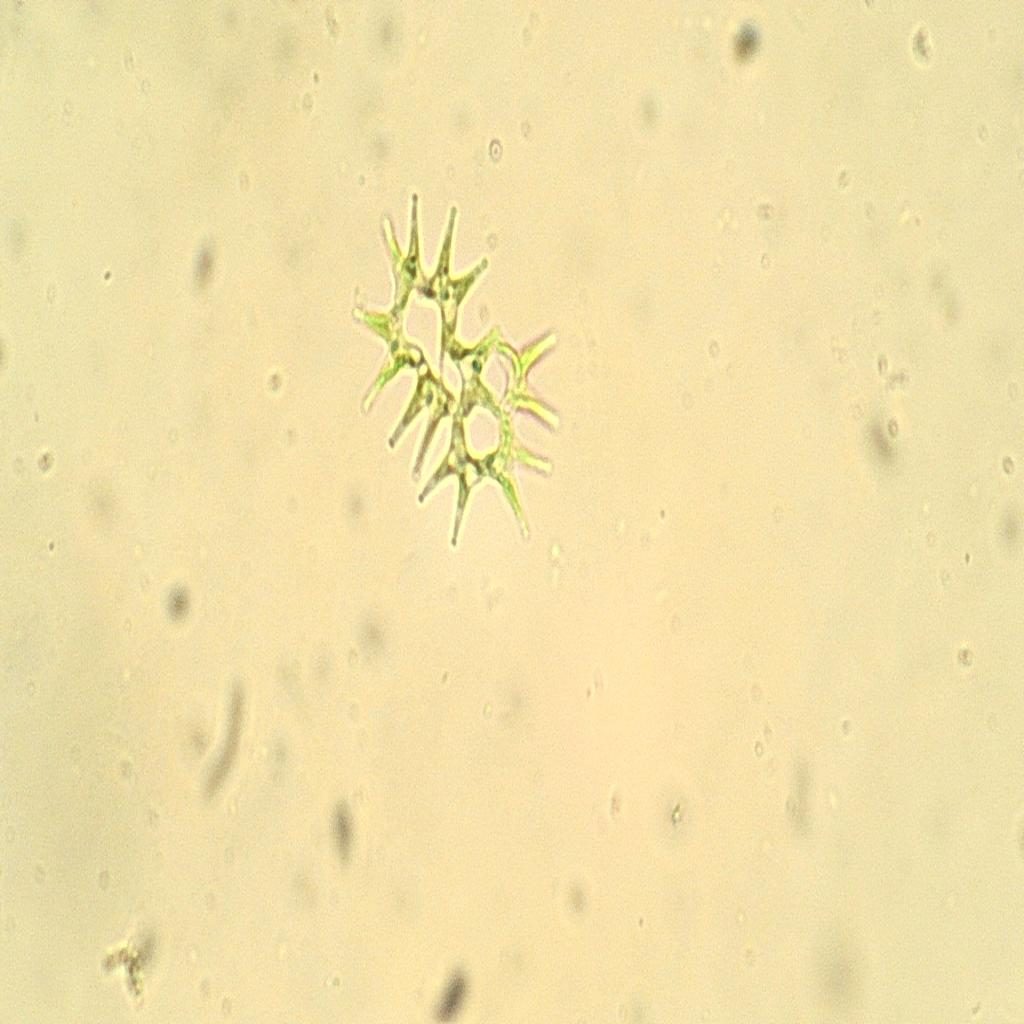Pediastrum_1TH: (329, 143, 580, 592)
